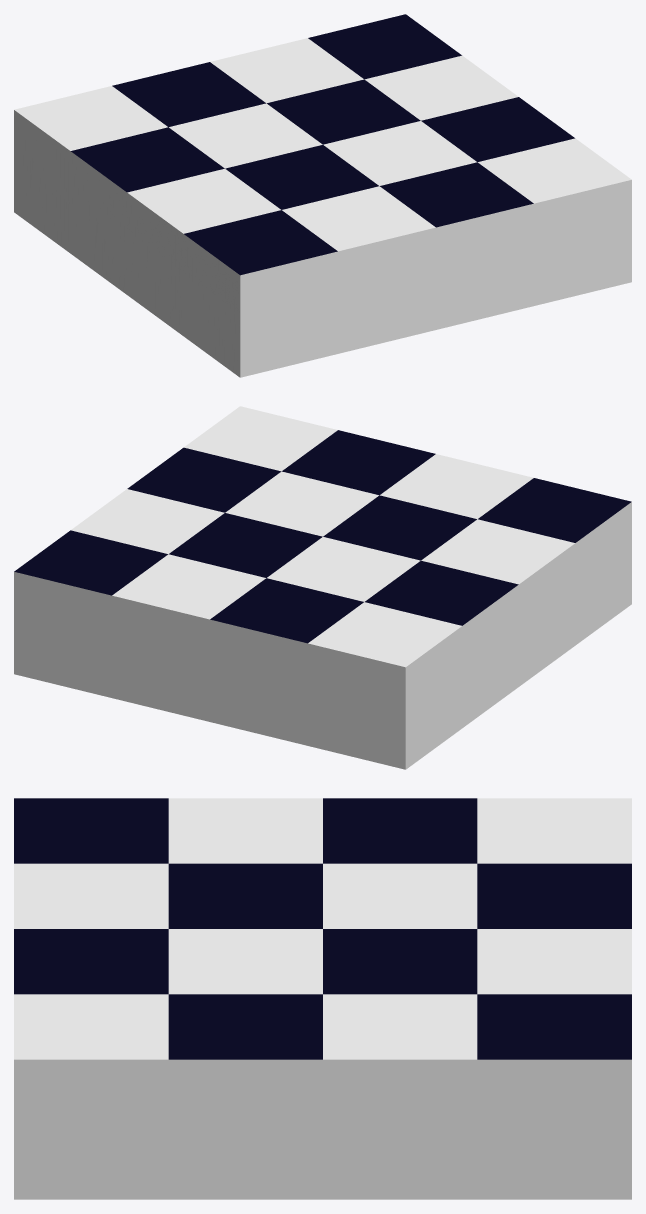
The model's file is Prop_GroundBase_07.fbx.
The picture shows the model from 3 angles, top to bottom: view 1: azimuth 30°, elevation 25°; view 2: azimuth 150°, elevation 25°; view 3: azimuth 270°, elevation 25°; orthographic projection. The views are drawn at different scales.
Parts seen in each view (by area): view 1: Prop_GroundBase_07; view 2: Prop_GroundBase_07; view 3: Prop_GroundBase_07.
Boxes of the visible parts, left/top/right/bottom form: Prop_GroundBase_07: left=14, top=14, right=631, bottom=377; Prop_GroundBase_07: left=14, top=406, right=631, bottom=769; Prop_GroundBase_07: left=14, top=798, right=631, bottom=1199.
Bounding box in the file's own units: 200 × 50 × 200.
